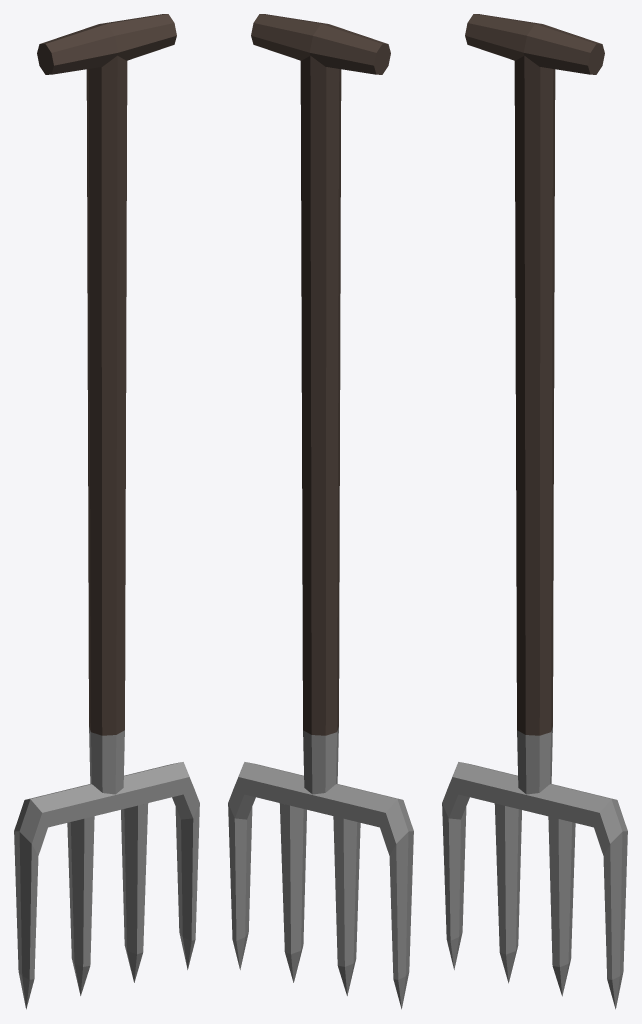
File: Pitchfork.fbx
3 views of the same model, side by side, from view 1: azimuth 30°, elevation 25°; view 2: azimuth 150°, elevation 25°; view 3: azimuth 330°, elevation 25° (orthographic).
Visible parts, largest first — view 1: Pitchfork; view 2: Pitchfork; view 3: Pitchfork.
Boxes of the visible parts, left/top/right/bottom form: Pitchfork: left=14, top=14, right=199, bottom=1009; Pitchfork: left=228, top=14, right=413, bottom=1009; Pitchfork: left=442, top=14, right=627, bottom=1009.
Size of the model in its own units: 26.24 by 5.89 by 139.
